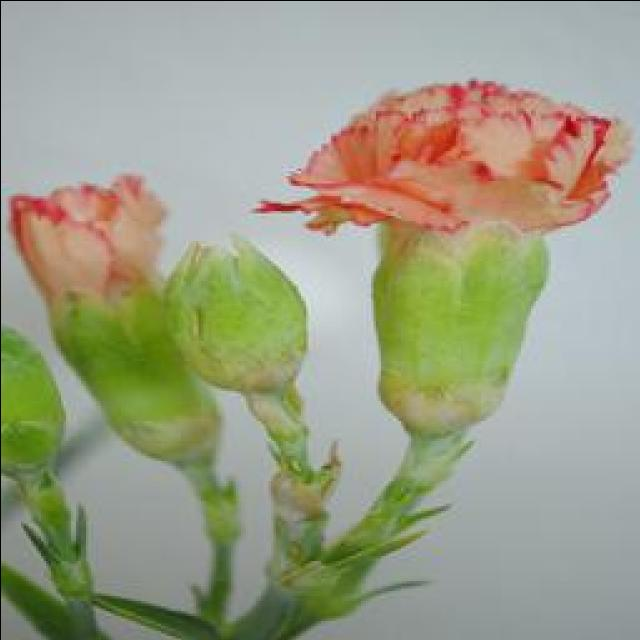carnation: (295, 68, 628, 444)
